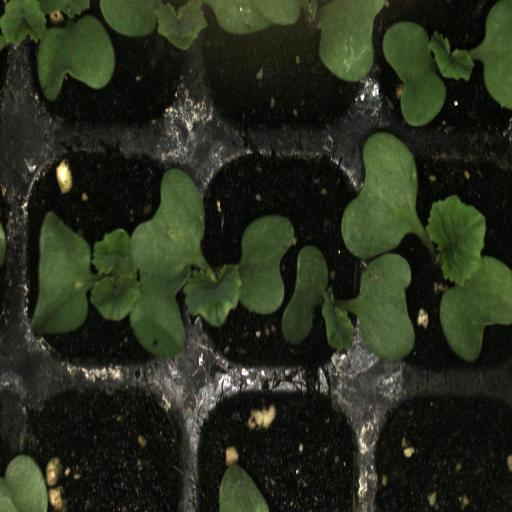seedling: (20, 146, 190, 377), (367, 142, 512, 381)
twoseedling: (183, 141, 374, 385)
